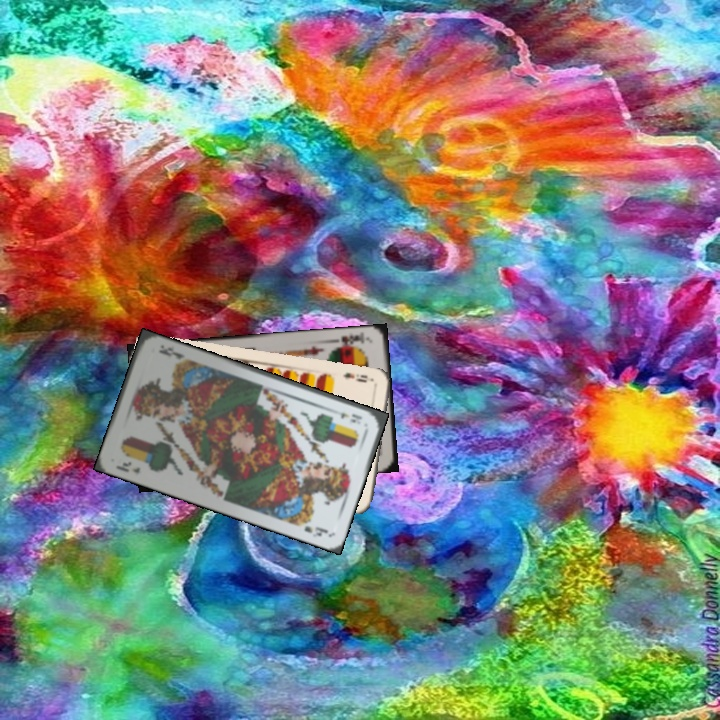E9: (339, 368, 370, 385)
EK: (329, 406, 365, 425), (112, 458, 143, 476)
SK: (331, 328, 372, 350)
